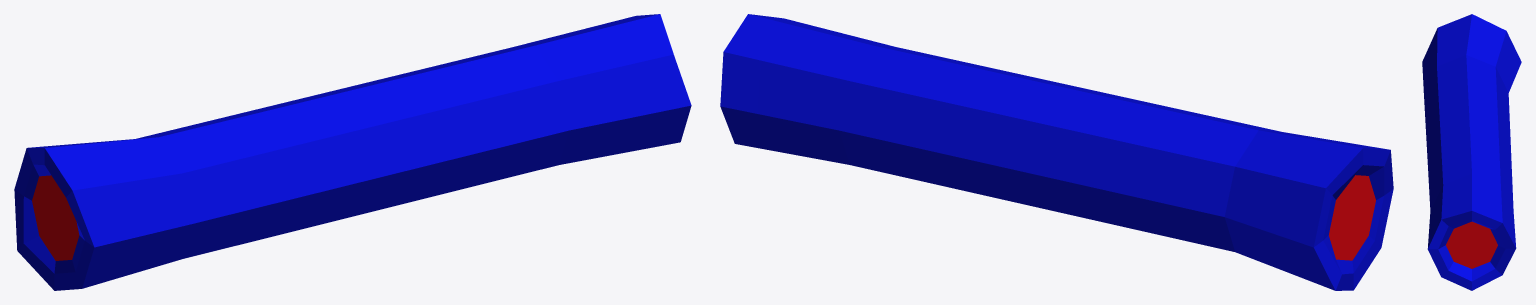
The model's file is SM_Long_Log2.fbx.
The picture shows the model from 3 angles, left to right: view 1: azimuth 30°, elevation 25°; view 2: azimuth 150°, elevation 25°; view 3: azimuth 270°, elevation 25°; orthographic projection. The views are drawn at different scales.
Visible parts, largest first — view 1: SM_Long_Log2; view 2: SM_Long_Log2; view 3: SM_Long_Log2.
Part boxes in pixels (left/top/right/bottom): SM_Long_Log2: left=14, top=14, right=691, bottom=290; SM_Long_Log2: left=720, top=14, right=1393, bottom=290; SM_Long_Log2: left=1422, top=14, right=1521, bottom=290.
Size of the model in its own units: 168 by 37.84 by 37.83.
